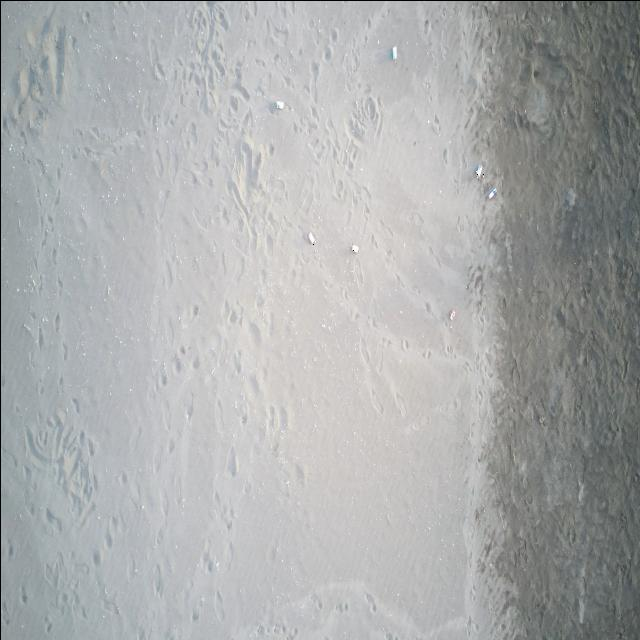Garbage: (475, 163, 483, 179), (487, 187, 495, 199), (307, 232, 315, 243), (272, 100, 283, 108), (448, 308, 455, 320), (391, 45, 396, 60), (352, 243, 359, 252)
